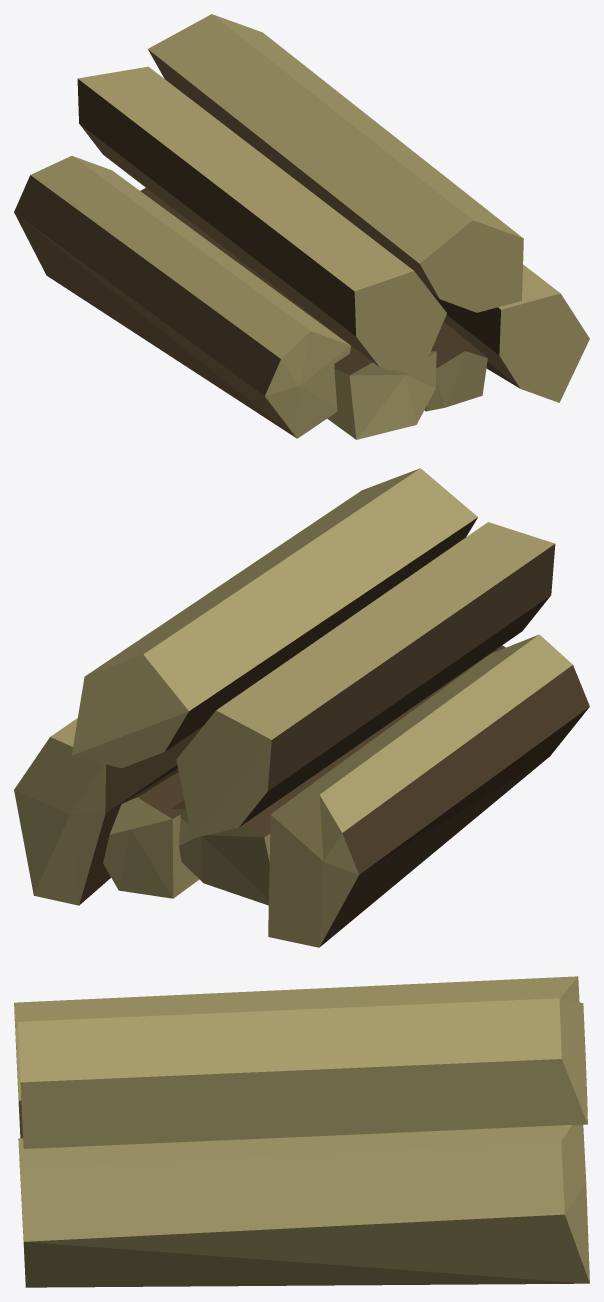
Rendered from 木头堆.fbx.
3 renders of one model, top to bottom at view 1: azimuth 30°, elevation 25°; view 2: azimuth 150°, elevation 25°; view 3: azimuth 270°, elevation 25°, orthographic. The views are drawn at different scales.
Parts seen in each view (by area): view 1: polySurface2; view 2: polySurface2; view 3: polySurface2.
Boxes of the visible parts, box(x1,y1,x2,y2) form: polySurface2: box(14, 14, 589, 439); polySurface2: box(14, 468, 589, 947); polySurface2: box(14, 976, 589, 1287).
Bounding box in the file's own units: 121 × 82 × 177.
